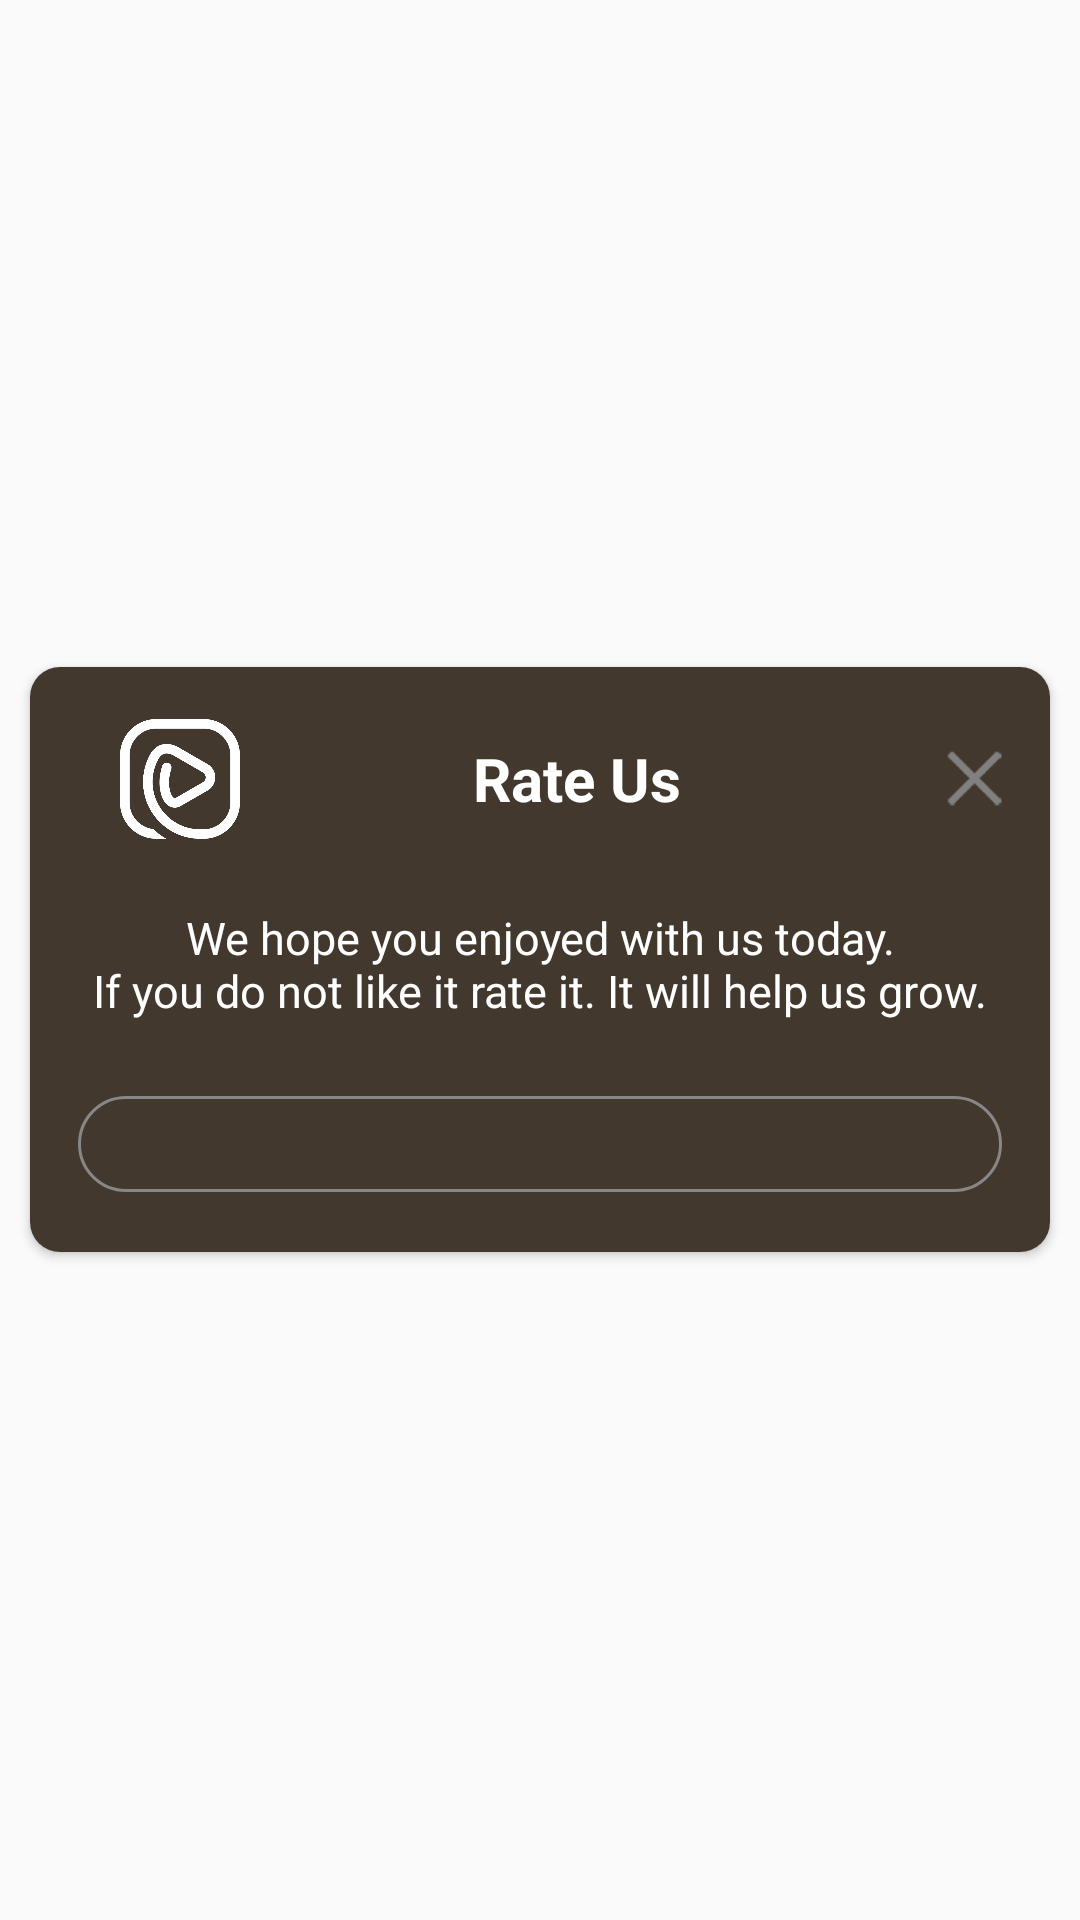

Screen size 1080px x 1920px. Icon name, then its box in pixels as (x1, y1, x2, y2):
close: (948, 752, 1002, 806)
